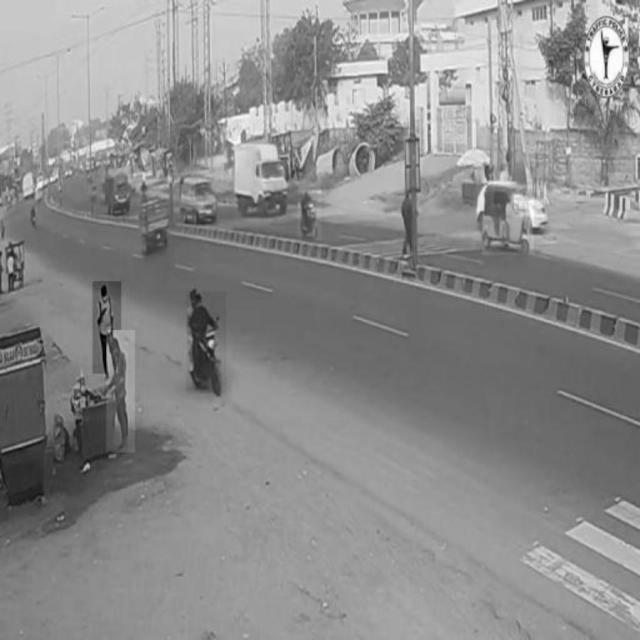person: (107, 330, 135, 452), (92, 282, 120, 374)
vehicle: (234, 142, 288, 220), (187, 292, 227, 394), (483, 185, 534, 255), (137, 198, 173, 252), (181, 176, 217, 226), (298, 189, 322, 240)
